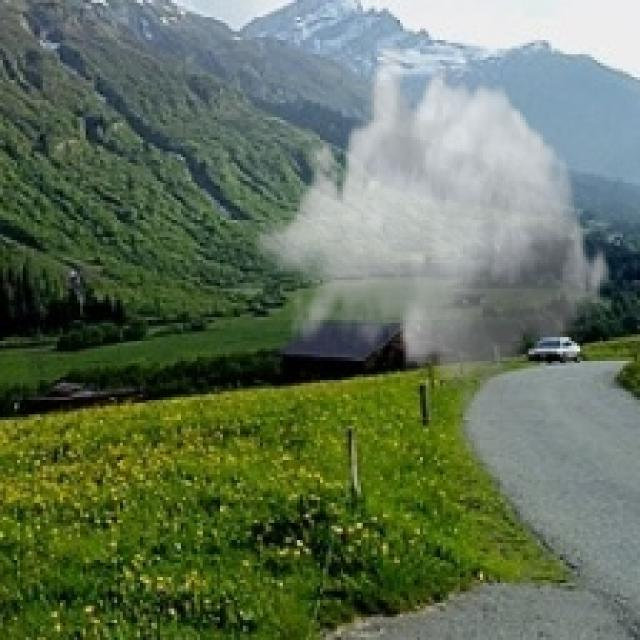smoke: (255, 40, 614, 409)
